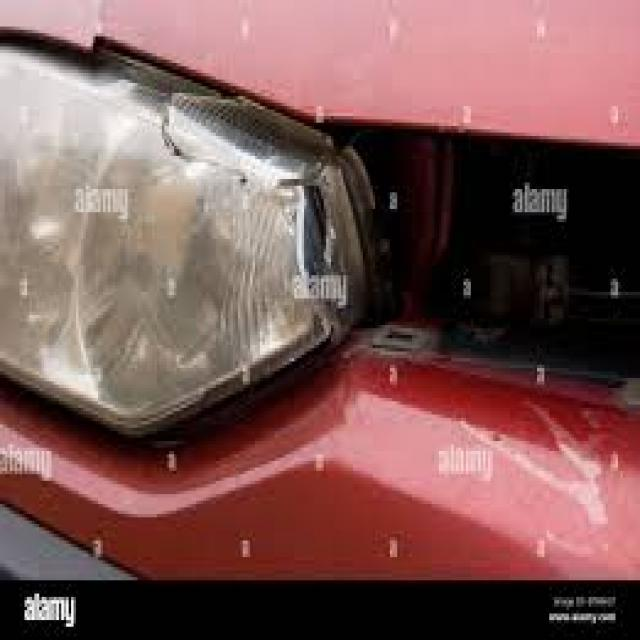damaged-head-light: (7, 43, 640, 418)
